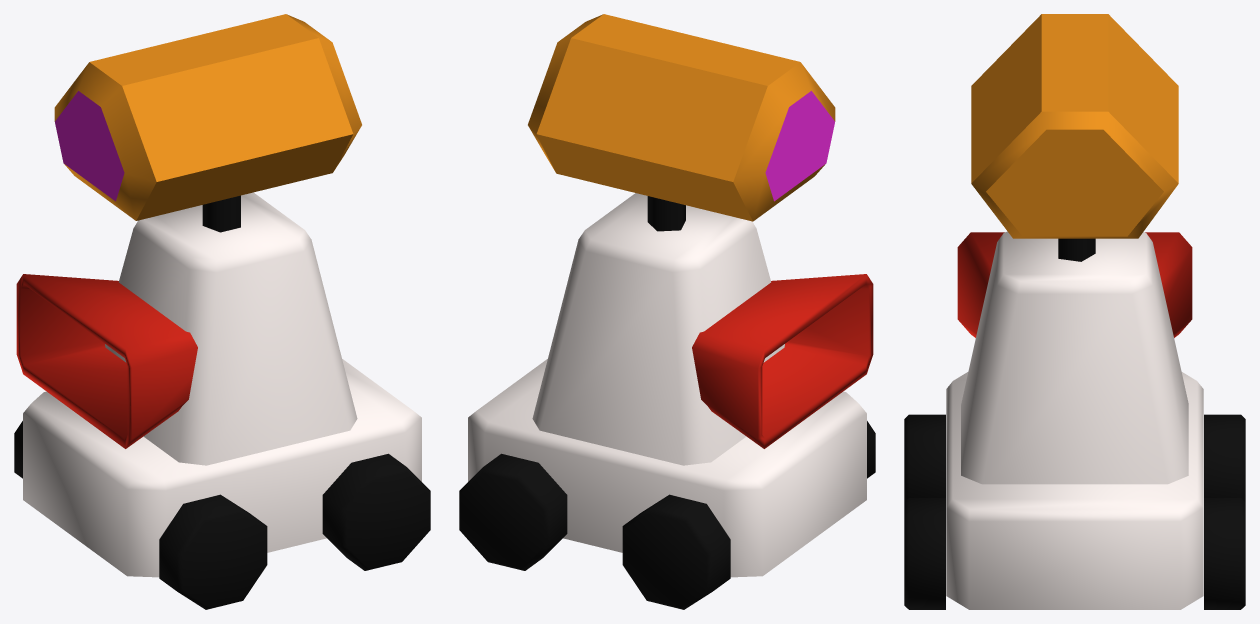
The model's file is robot hut tien.FBX.
3 renders of one model, left to right at view 1: azimuth 30°, elevation 25°; view 2: azimuth 150°, elevation 25°; view 3: azimuth 270°, elevation 25°, orthographic.
Parts seen in each view (by area): view 1: robot hut tien; view 2: robot hut tien; view 3: robot hut tien.
Part boxes in pixels (bbox=[...]): robot hut tien: bbox=[14, 14, 430, 609]; robot hut tien: bbox=[459, 14, 875, 609]; robot hut tien: bbox=[904, 14, 1245, 609].
Bounding box in the file's own units: 1.46 × 2.27 × 1.43.
